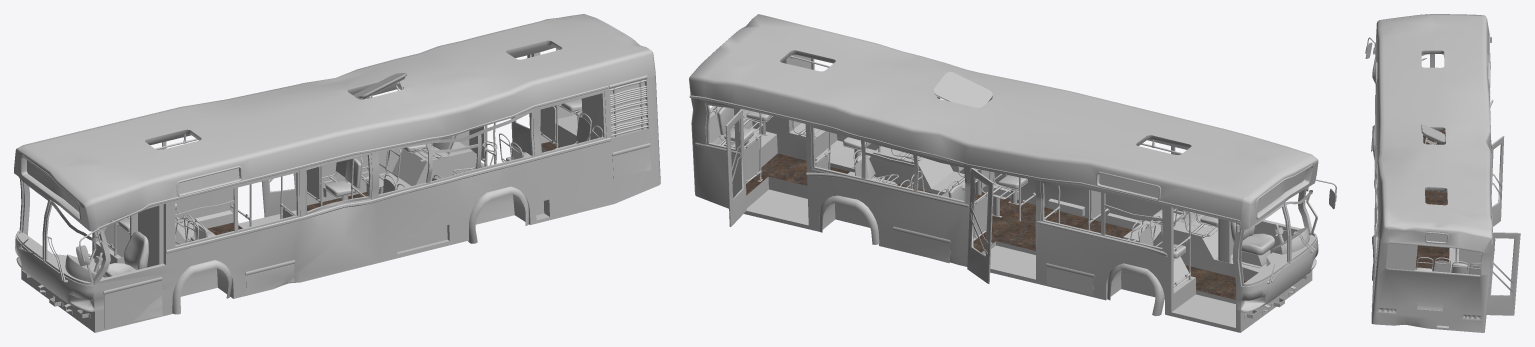
3 views of the same model, side by side, from view 1: azimuth 30°, elevation 25°; view 2: azimuth 150°, elevation 25°; view 3: azimuth 270°, elevation 25° (orthographic). The views are drawn at different scales.
Parts seen in each view (by area): view 1: mesh_0_veh\bus_01_0, mesh_1_veh\bus_02_0, mesh_3_veh\bus_04_0, mesh_4_veh\bus_05_0, mesh_2_veh\bus_03_0, mesh_5_metal\metal_tile_0; view 2: mesh_0_veh\bus_01_0, mesh_1_veh\bus_02_0, mesh_2_veh\bus_03_0, mesh_3_veh\bus_04_0, mesh_4_veh\bus_05_0, mesh_5_metal\metal_tile_0; view 3: mesh_0_veh\bus_01_0, mesh_4_veh\bus_05_0, mesh_2_veh\bus_03_0, mesh_1_veh\bus_02_0, mesh_5_metal\metal_tile_0, mesh_3_veh\bus_04_0.
Boxes of the visible parts, left/top/right/bottom form: mesh_0_veh\bus_01_0: left=14, top=14, right=660, bottom=332; mesh_1_veh\bus_02_0: left=76, top=75, right=659, bottom=332; mesh_3_veh\bus_04_0: left=15, top=45, right=606, bottom=285; mesh_4_veh\bus_05_0: left=65, top=49, right=602, bottom=282; mesh_2_veh\bus_03_0: left=22, top=40, right=606, bottom=284; mesh_5_metal\metal_tile_0: left=103, top=141, right=560, bottom=277; mesh_0_veh\bus_01_0: left=689, top=14, right=1318, bottom=332; mesh_1_veh\bus_02_0: left=689, top=95, right=1336, bottom=332; mesh_2_veh\bus_03_0: left=705, top=50, right=1312, bottom=327; mesh_3_veh\bus_04_0: left=705, top=58, right=1317, bottom=293; mesh_4_veh\bus_05_0: left=709, top=55, right=1309, bottom=287; mesh_5_metal\metal_tile_0: left=746, top=153, right=1246, bottom=299; mesh_0_veh\bus_01_0: left=1371, top=14, right=1492, bottom=332; mesh_4_veh\bus_05_0: left=1415, top=136, right=1520, bottom=315; mesh_2_veh\bus_03_0: left=1372, top=50, right=1490, bottom=270; mesh_1_veh\bus_02_0: left=1365, top=33, right=1494, bottom=320; mesh_5_metal\metal_tile_0: left=1415, top=131, right=1449, bottom=271; mesh_3_veh\bus_04_0: left=1374, top=54, right=1482, bottom=275.
Size of the model in its own units: 14.71 by 3.8 by 4.37.
